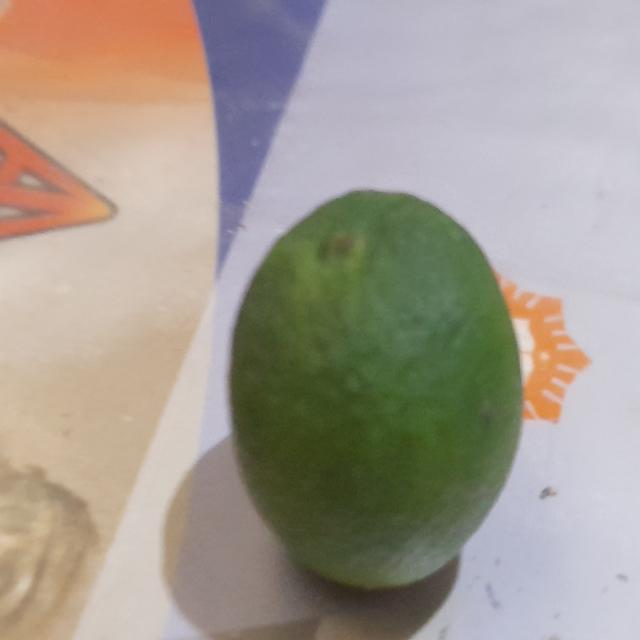heathy: (229, 184, 525, 586)
